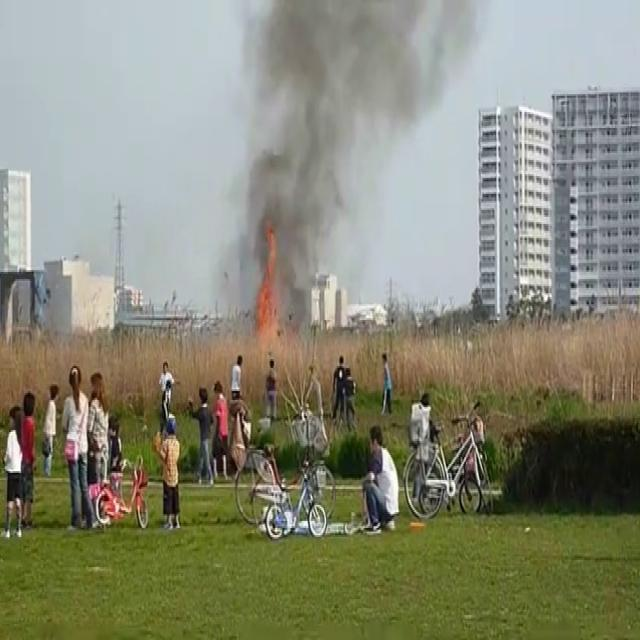Fire: (250, 230, 286, 356)
Smoke: (218, 0, 418, 322)
